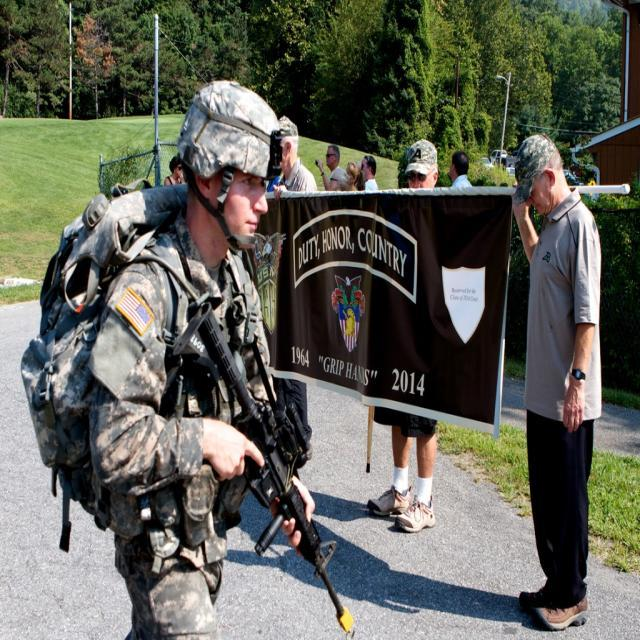weapon: (174, 302, 353, 637)
